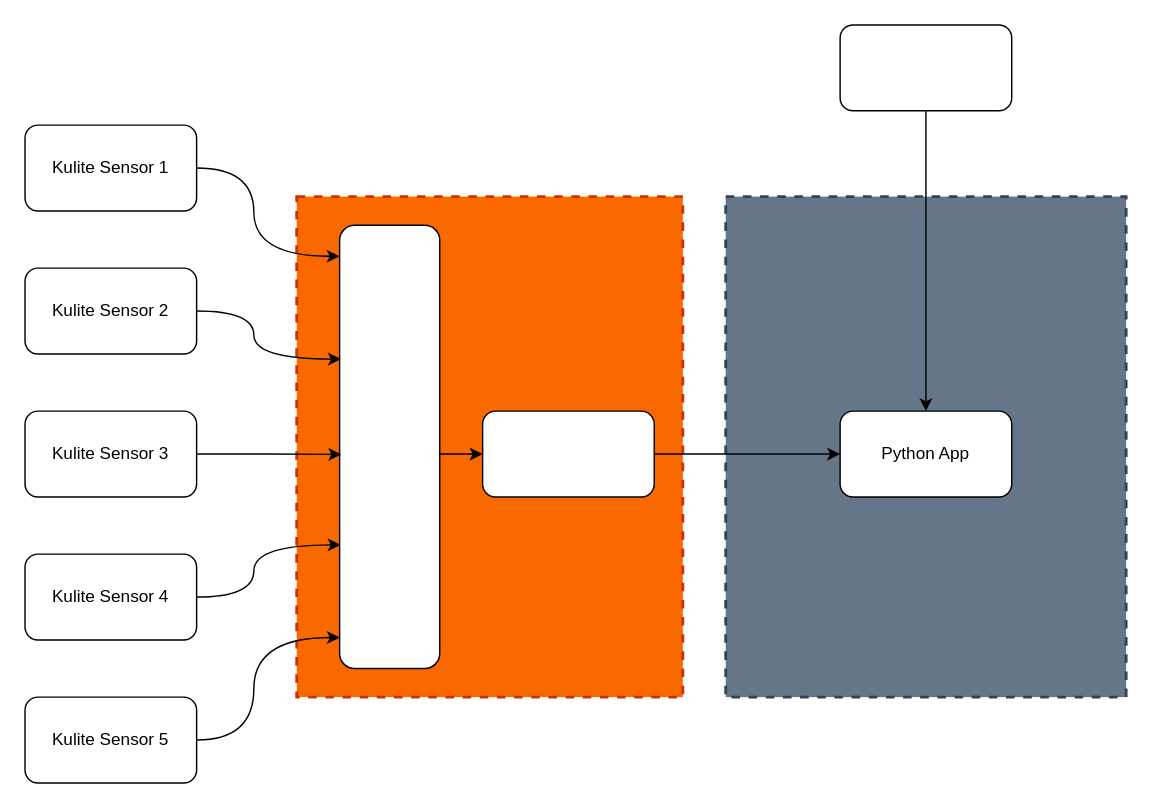
Some shapes in this 1153 by 808 pixel diagram are drawn without their labels. Here are the shapes that lost their labels. From the top down, the centre of each, then its label:
point 925,67: Schlieren camera
point 389,446: Amplifier + ADC
point 567,453: DAQ System
